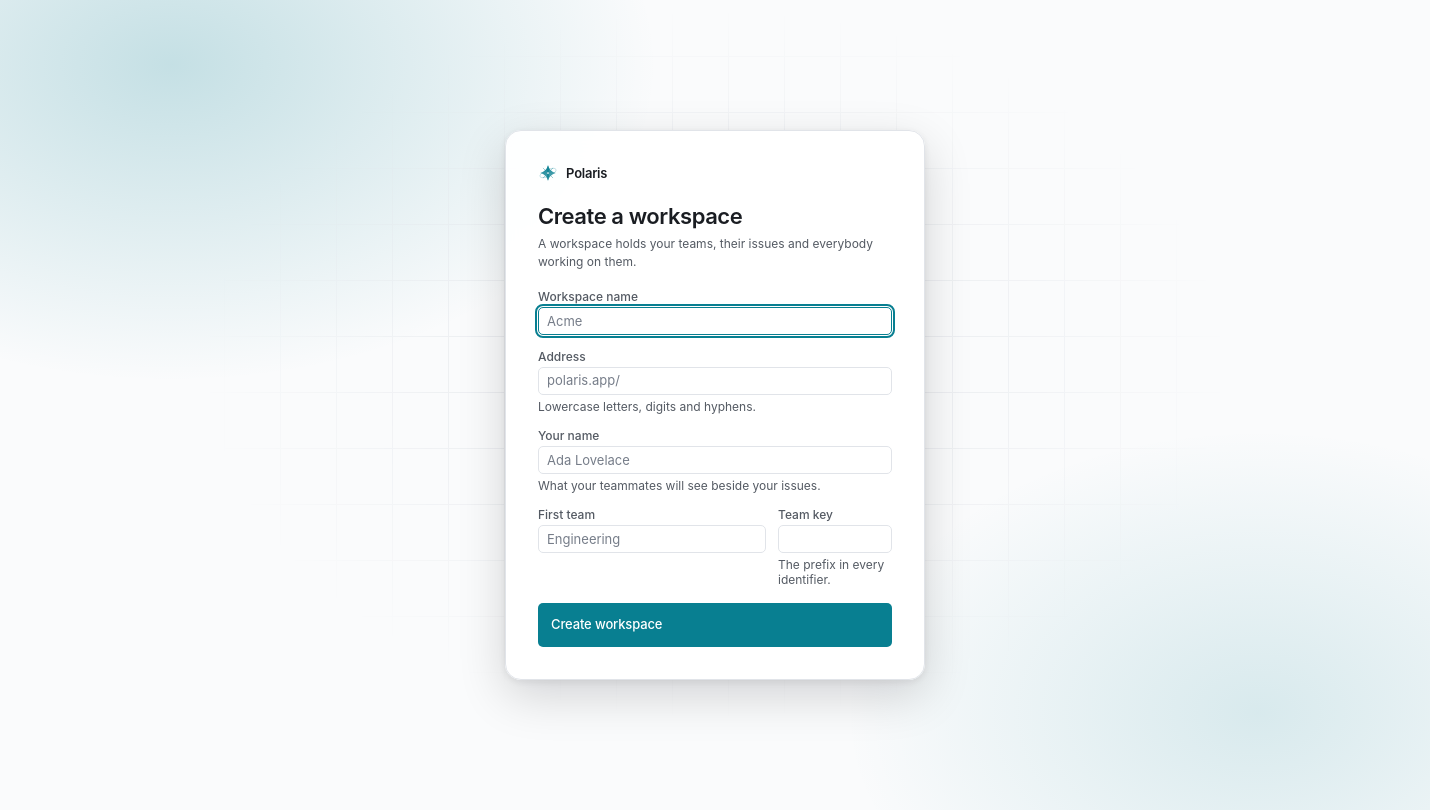
it: CreateWorkspace team key › previews the address the workspace will live at
Step 1. Type "Acme Corp" into the field labelled "Workspace name" → (715, 321), box [547,308,883,334]
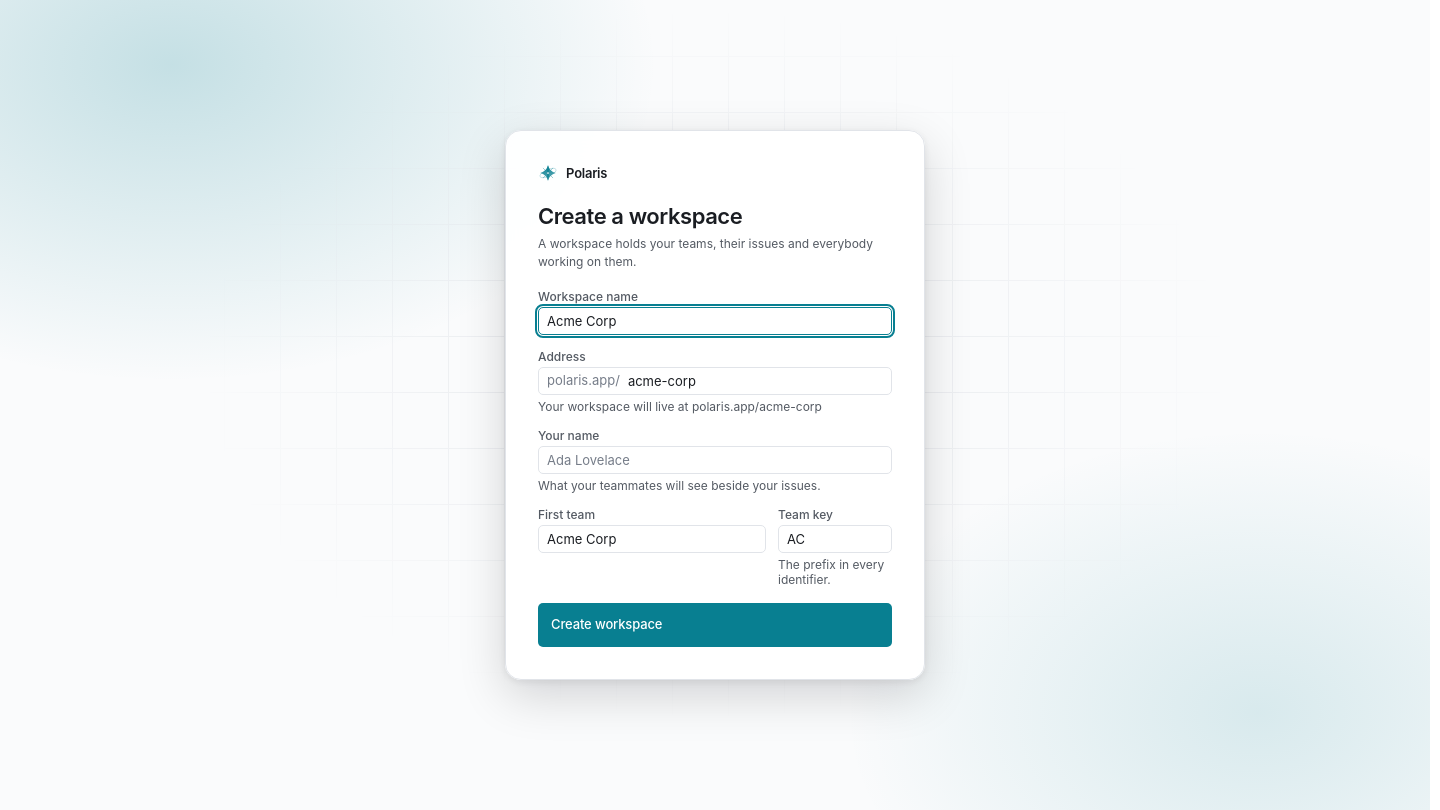
Expected: the text "Your workspace will live at polaris.app/acme-corp" is shown, [538,399,822,414]
